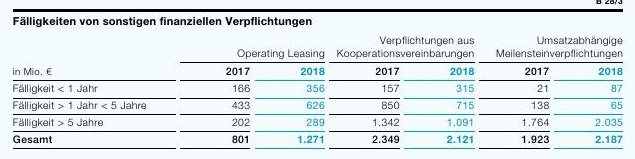table: (0, 0, 635, 159)
